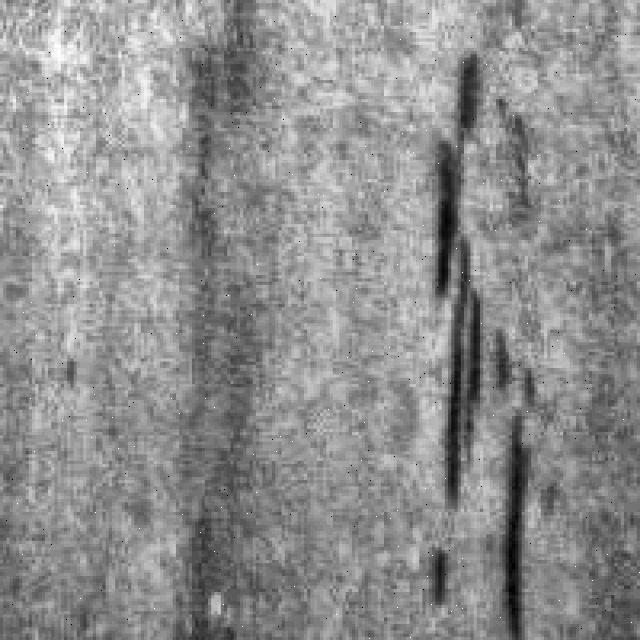Patches: (412, 41, 516, 598), (470, 397, 541, 637)
